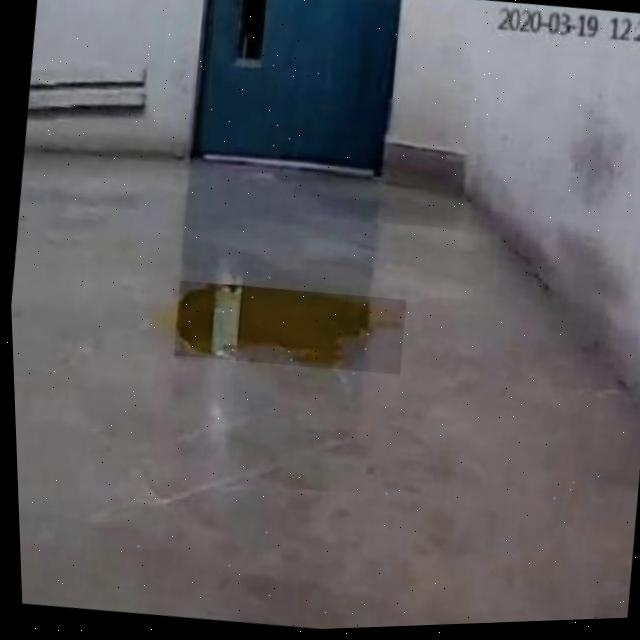spillage: (173, 286, 402, 370)
